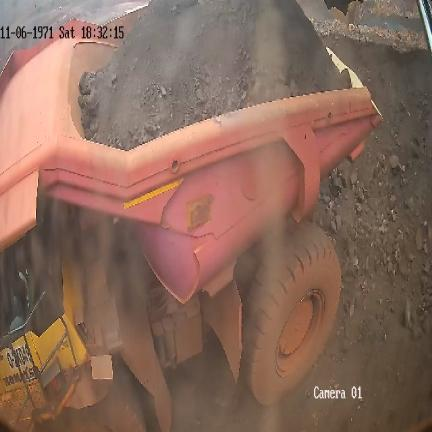pile: (80, 0, 349, 148), (320, 62, 432, 345)
